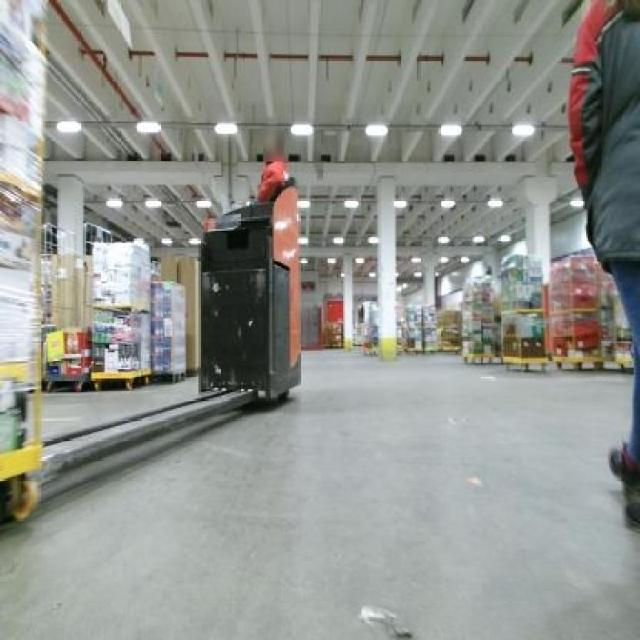floor: (0, 351, 637, 637)
pallets: (198, 185, 297, 395), (149, 280, 183, 377)
